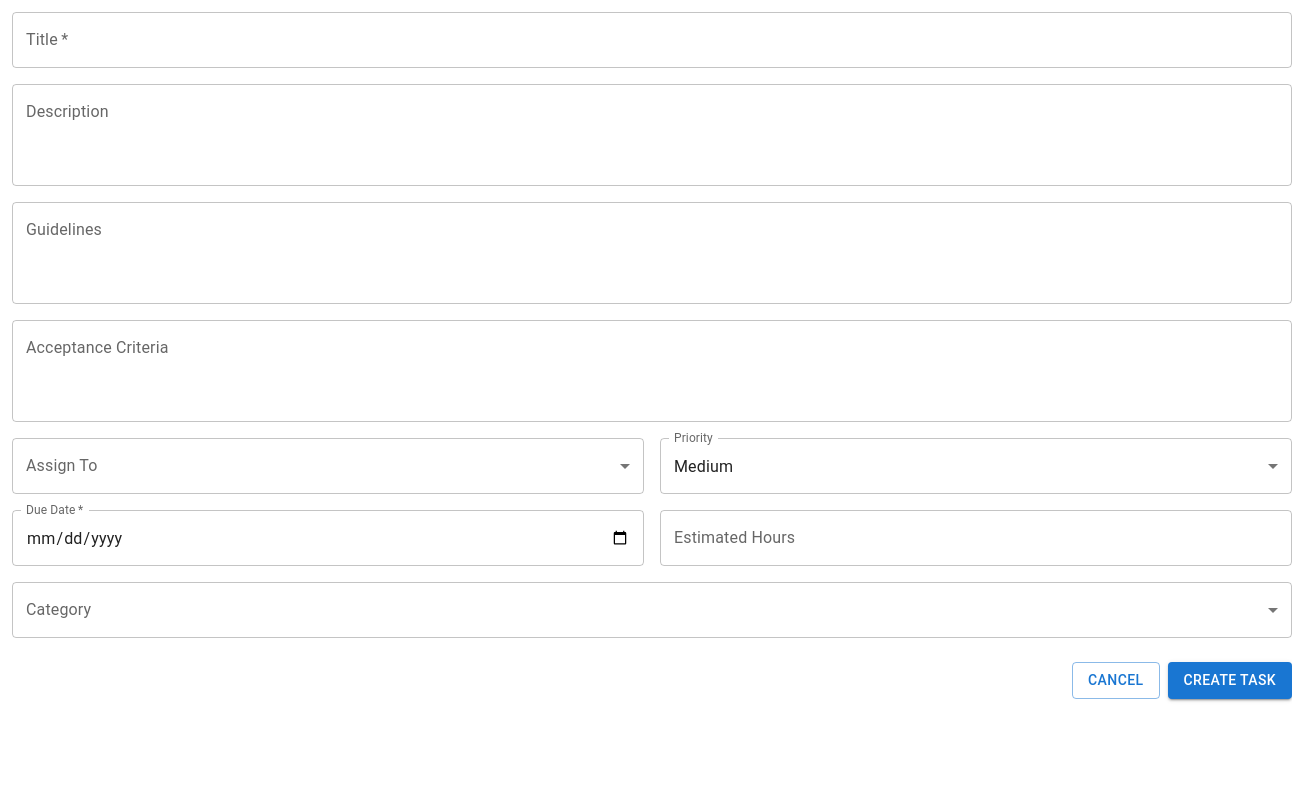
Test case: TaskForm › renders employee option in Assign To dropdown
The width and height of the screenshot is (1304, 812).
# Open dropdown
Press the mouse on the dropdown named "assign to" next to "Assign To" at {"x": 328, "y": 466}, box [12,438,644,494]
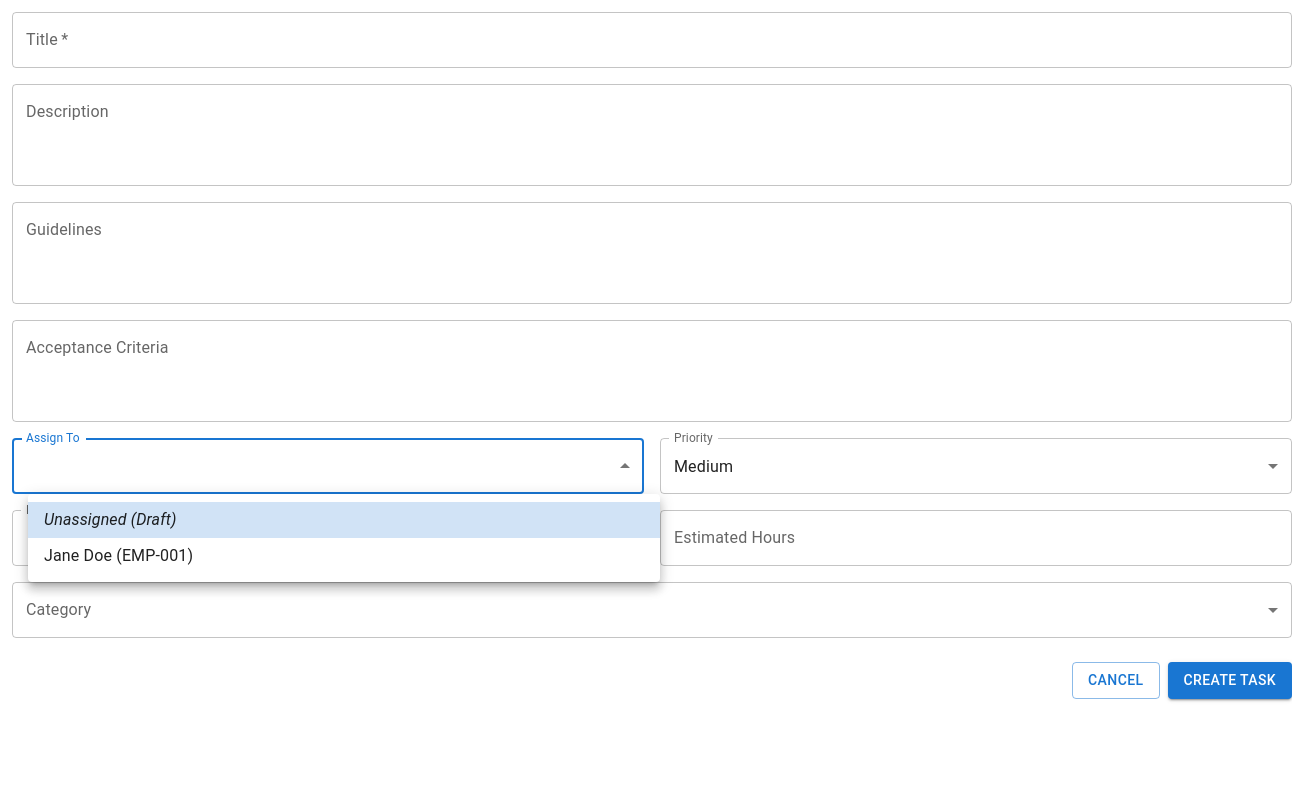
expect the option "Jane Doe (EMP-001)" is shown: met, box [44,546,193,565]
